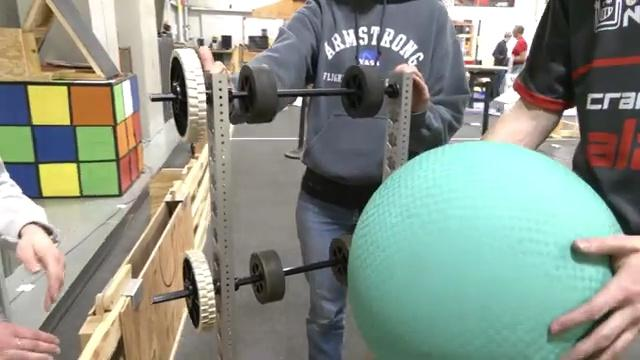algae: (345, 138, 624, 359)
